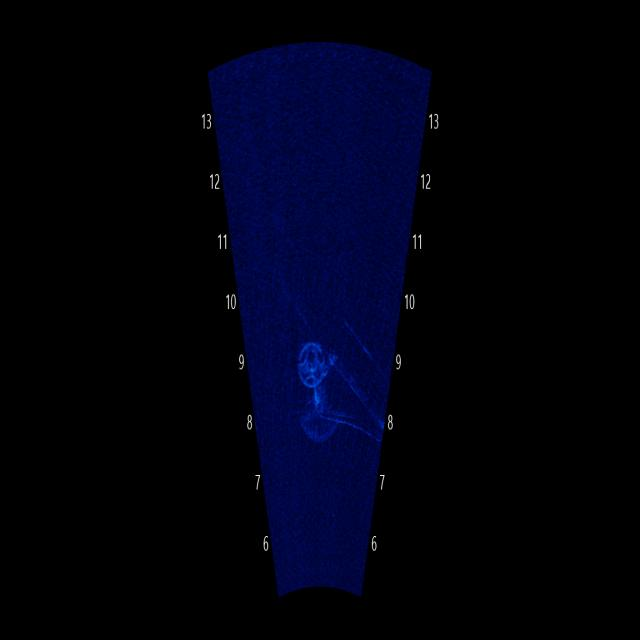circle: (288, 308, 332, 412)
